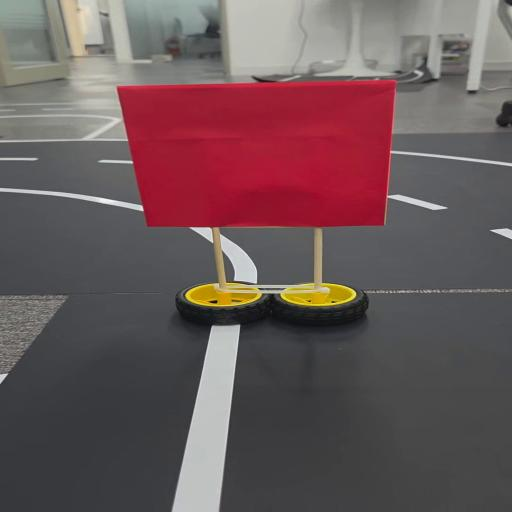Sign_A: (119, 73, 395, 337)
